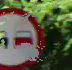No overtake: (0, 4, 47, 69)
